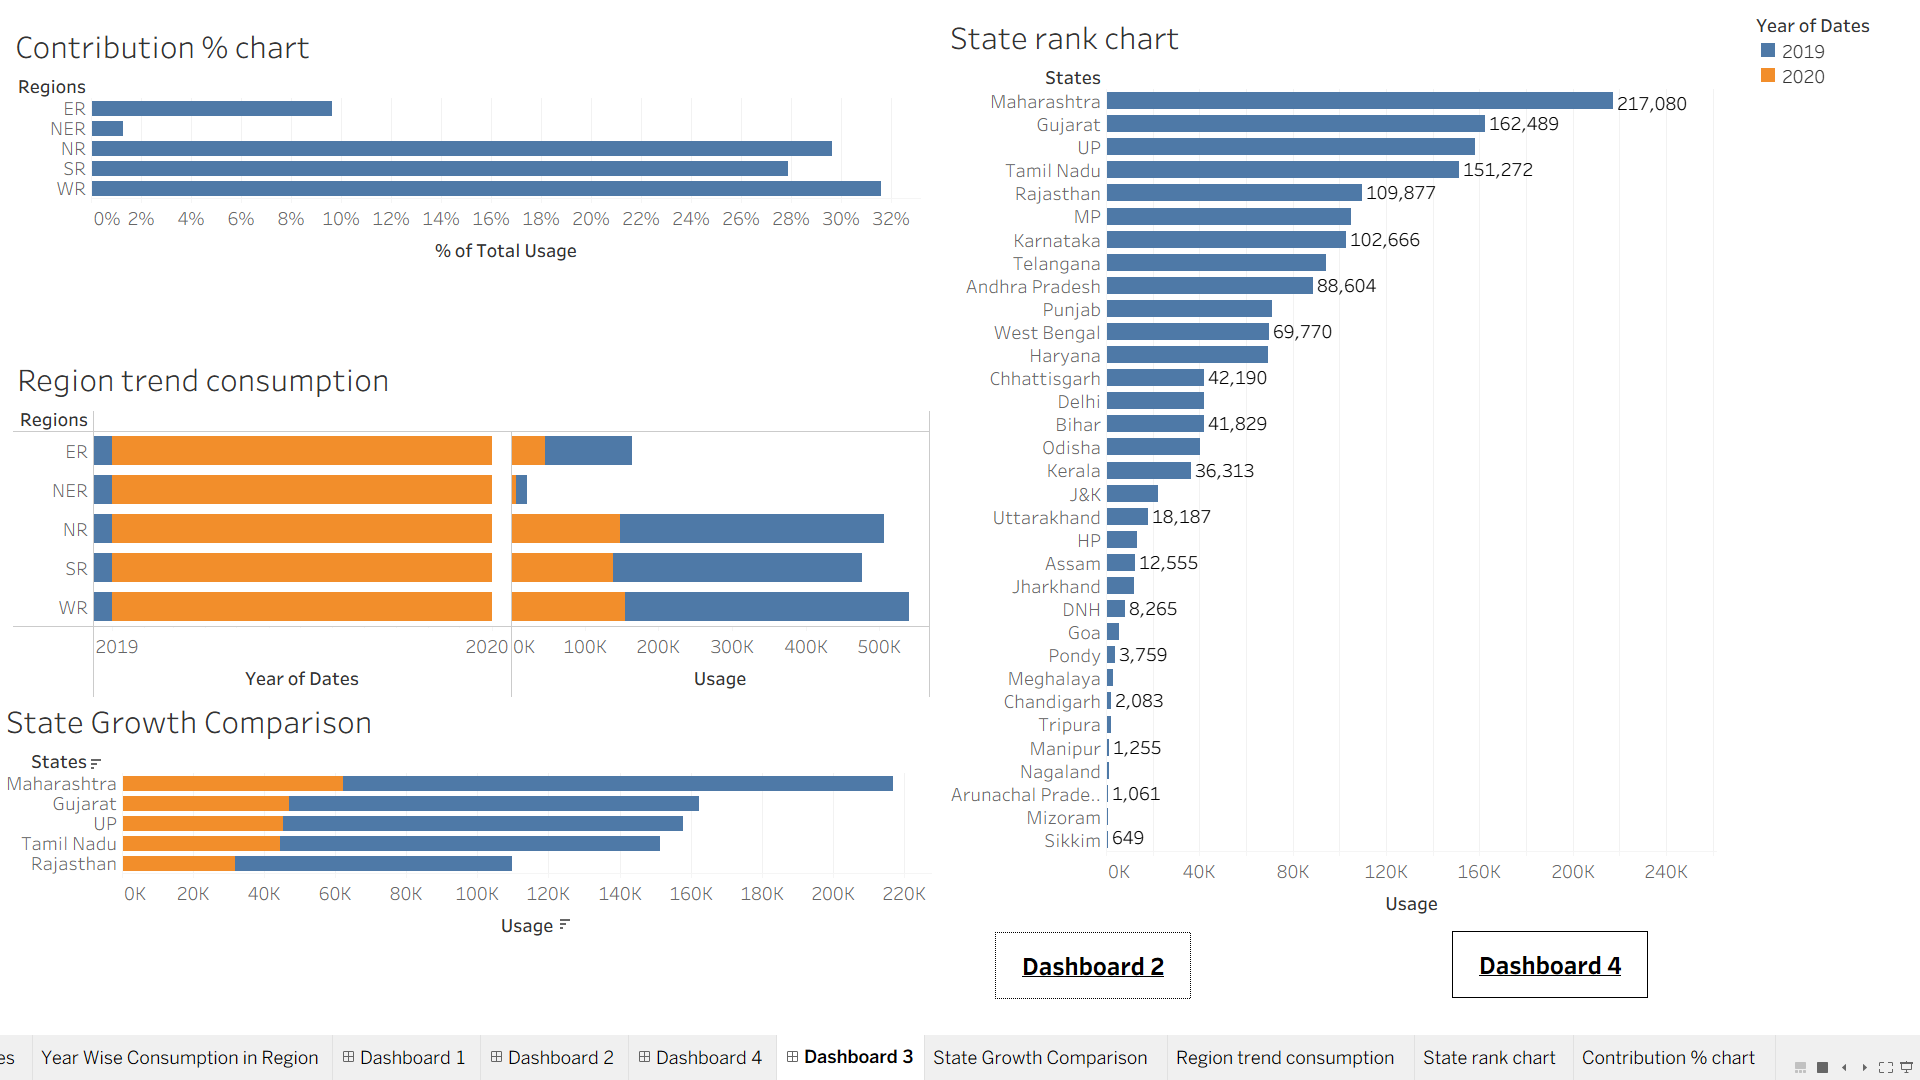

This screenshot's page, from the dashboard's own definition file:
{"tool":"tableau","page":{"name":"Dashboard 3","canvas":[1000,1000],"units":"permille","ordinal":2},"visuals":[{"type":"legend","title":"State Growth Comparison","param":"[federated.0kxg41e0jhsp7912dl5lz15mm04g].[yr:Dates:ok]","box":[912.5,7.7,83.3,81.2]},{"type":"worksheet","title":"State rank chart","mark":"Bar","rows":["States"],"cols":["Usage"],"box":[492.5,11.2,401.5,879.6]},{"type":"worksheet","title":"Contribution % chart","mark":"Automatic","rows":["Regions"],"cols":["Usage"],"box":[5.6,19.9,473.8,331.3]},{"type":"worksheet","title":"Region trend consumption","mark":"Bar","rows":["Regions"],"cols":["Dates","Usage"],"box":[6.9,342.4,477.6,332.5]},{"type":"worksheet","title":"State Growth Comparison","mark":"Bar","rows":["States"],"cols":["Usage"],"box":[1.2,672.5,484.4,332.5]},{"type":"dashboard-object","box":[756.2,899.5,102.2,64.5]},{"type":"dashboard-object","box":[518.1,900.7,102.2,64.5]}]}

Visuals, with their boxes on the dashboard's canvas, which has no fixed pixel size, in thousandths of its width and height (x1, y1, x2, y2). These are canvas units, not pixel positions in the 1920x1080 screenshot, which may show the page scaled, cropped or inside an application window:
"State Growth Comparison" legend: Rect(912, 8, 996, 89)
"State rank chart" worksheet (Bar marks): Rect(492, 11, 894, 891)
"Contribution % chart" worksheet: Rect(6, 20, 479, 351)
"Region trend consumption" worksheet (Bar marks): Rect(7, 342, 484, 675)
"State Growth Comparison" worksheet (Bar marks): Rect(1, 672, 486, 1005)
dashboard-object: Rect(756, 900, 858, 964)
dashboard-object: Rect(518, 901, 620, 965)
